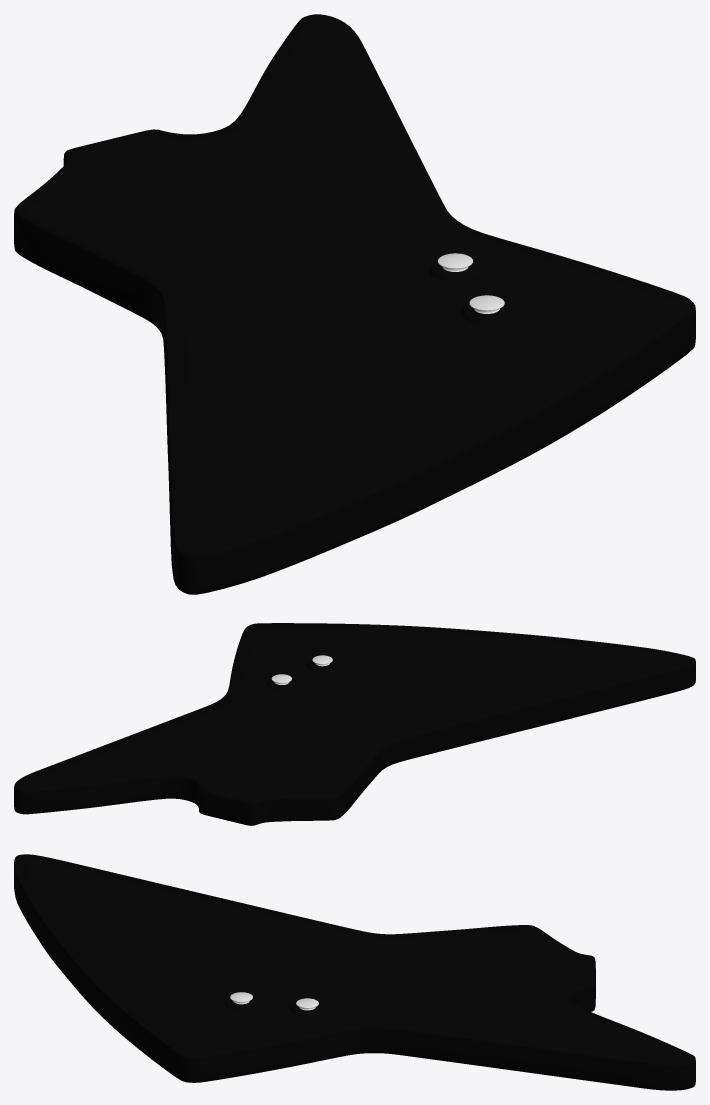
File: Explorer_Alder.glb
3 views of the same model, one above another, from view 1: azimuth 30°, elevation 25°; view 2: azimuth 150°, elevation 25°; view 3: azimuth 270°, elevation 25° (orthographic). The views are drawn at different scales.
Visible parts, largest first — view 1: Explorer_Alder; view 2: Explorer_Alder; view 3: Explorer_Alder.
Boxes of the visible parts, bbox=[...] form: Explorer_Alder: bbox=[14, 14, 695, 594]; Explorer_Alder: bbox=[14, 623, 695, 825]; Explorer_Alder: bbox=[14, 854, 695, 1090].
Size of the model in its own units: 2.26 by 0.1747 by 3.09.
3 materials, 1 textured.
